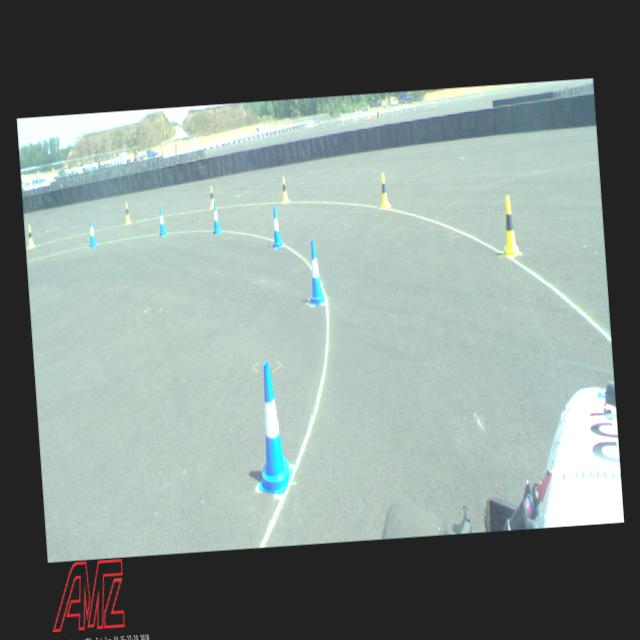blue_cone: (250, 360, 294, 494), (304, 238, 326, 304), (270, 205, 282, 247), (210, 201, 220, 233), (157, 206, 166, 235), (88, 218, 96, 248)
yellow_cone: (498, 196, 522, 256), (378, 171, 391, 207), (280, 175, 289, 201), (26, 224, 34, 248), (208, 184, 214, 208), (124, 200, 130, 222)
